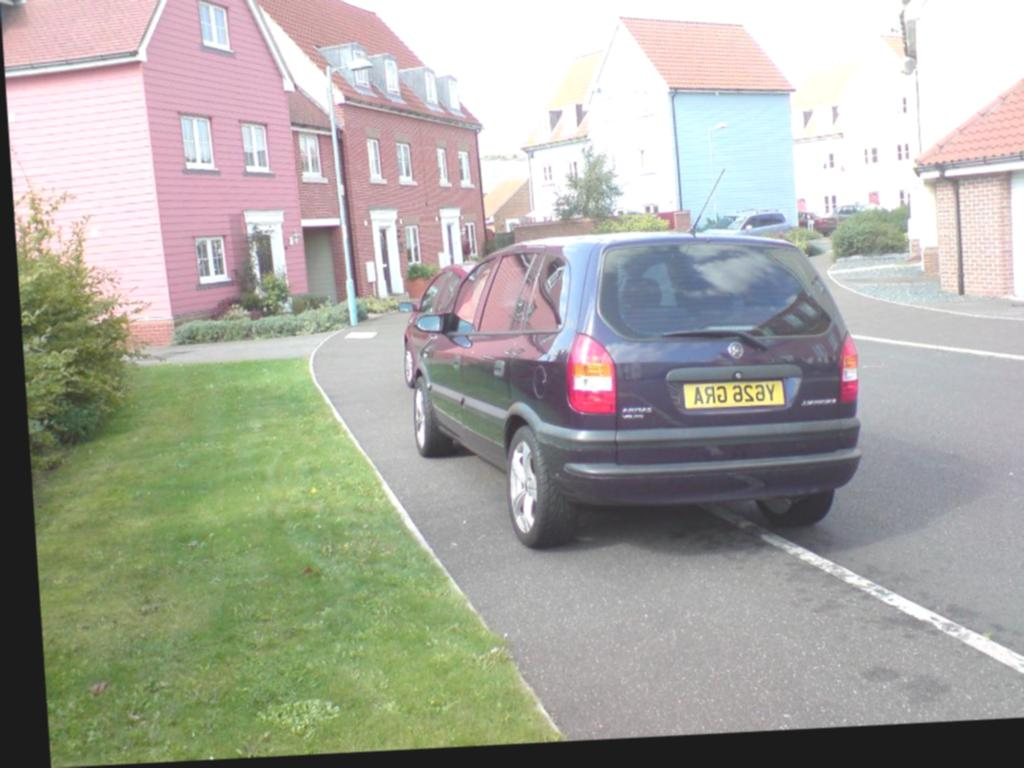License_Plate: (679, 376, 786, 409)
